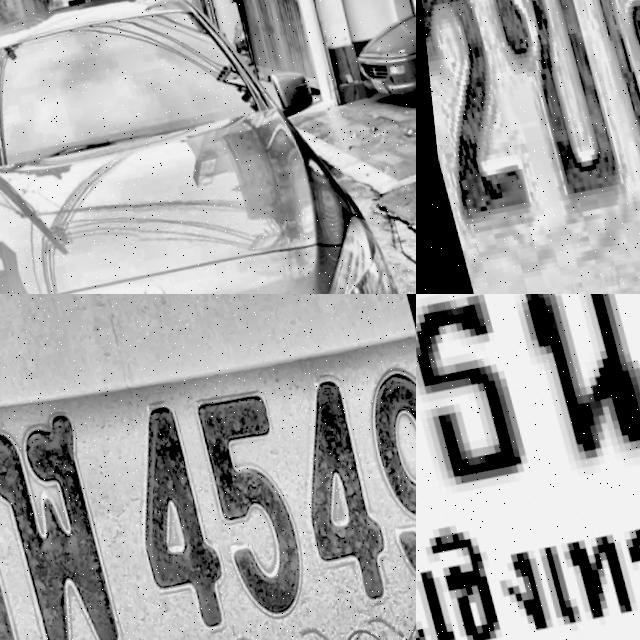license-plate: (0, 294, 416, 640), (416, 294, 640, 640), (416, 0, 640, 294)
